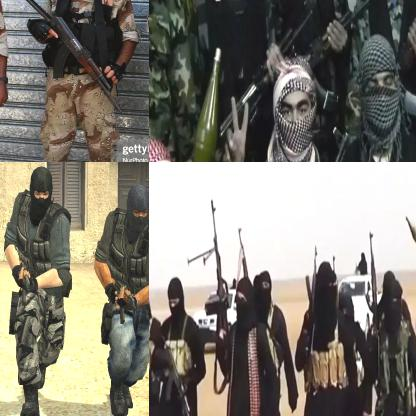rifle: (9, 0, 126, 114), (174, 43, 226, 161), (193, 198, 231, 338), (273, 121, 353, 161), (155, 346, 197, 415), (302, 244, 321, 389), (110, 279, 145, 331), (364, 231, 381, 328), (233, 223, 252, 280), (404, 212, 415, 287)
